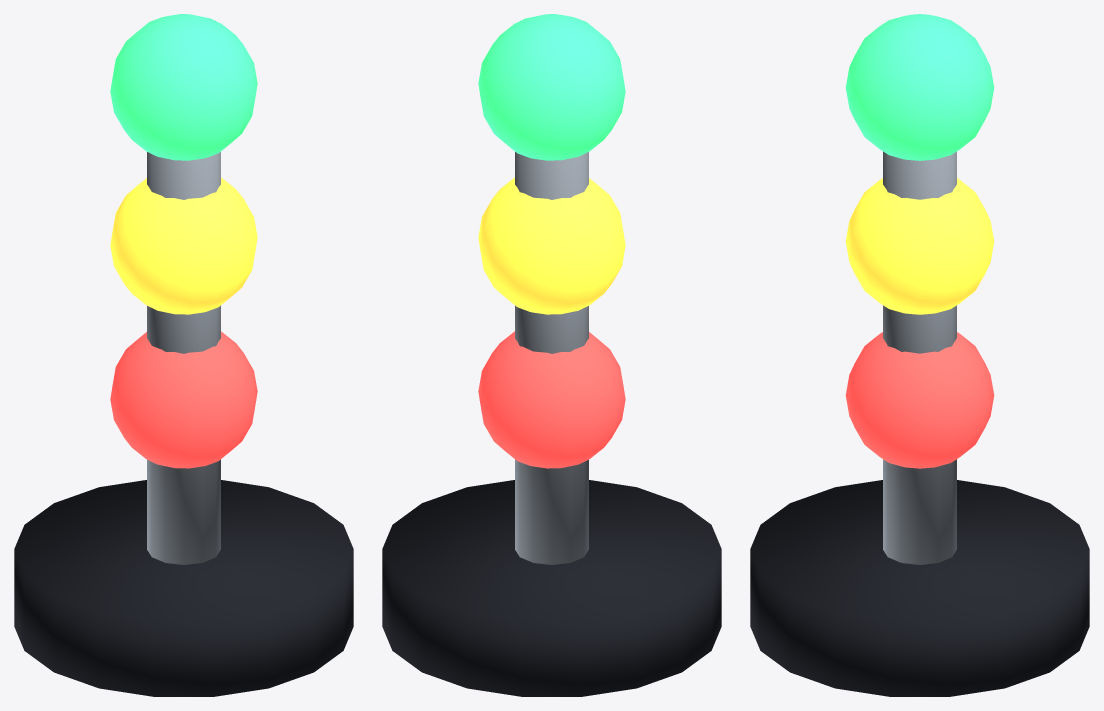
The model's file is Decor_StatusIndicator.fbx.
3 views of the same model, side by side, from view 1: azimuth 30°, elevation 25°; view 2: azimuth 150°, elevation 25°; view 3: azimuth 270°, elevation 25° (orthographic).
Visible parts, largest first — view 1: Indicator_Base, Orb_Green, Orb_Amber, Orb_Red, Indicator_Mast; view 2: Indicator_Base, Orb_Green, Orb_Amber, Orb_Red, Indicator_Mast; view 3: Indicator_Base, Orb_Green, Orb_Red, Orb_Amber, Indicator_Mast.
Boxes of the visible parts, x1,y1,x2,y2 form: Indicator_Base: (14, 480, 353, 696); Orb_Green: (110, 14, 257, 160); Orb_Amber: (110, 177, 257, 314); Orb_Red: (110, 331, 257, 468); Indicator_Mast: (147, 152, 220, 564); Indicator_Base: (382, 480, 721, 696); Orb_Green: (478, 14, 625, 160); Orb_Amber: (478, 177, 625, 314); Orb_Red: (478, 331, 625, 468); Indicator_Mast: (515, 152, 588, 564); Indicator_Base: (750, 480, 1089, 696); Orb_Green: (845, 14, 994, 160); Orb_Red: (845, 332, 994, 468); Orb_Amber: (845, 178, 994, 314); Indicator_Mast: (883, 151, 956, 564).
Bounding box in the file's own units: 3.15 × 6.3 × 3.2.
